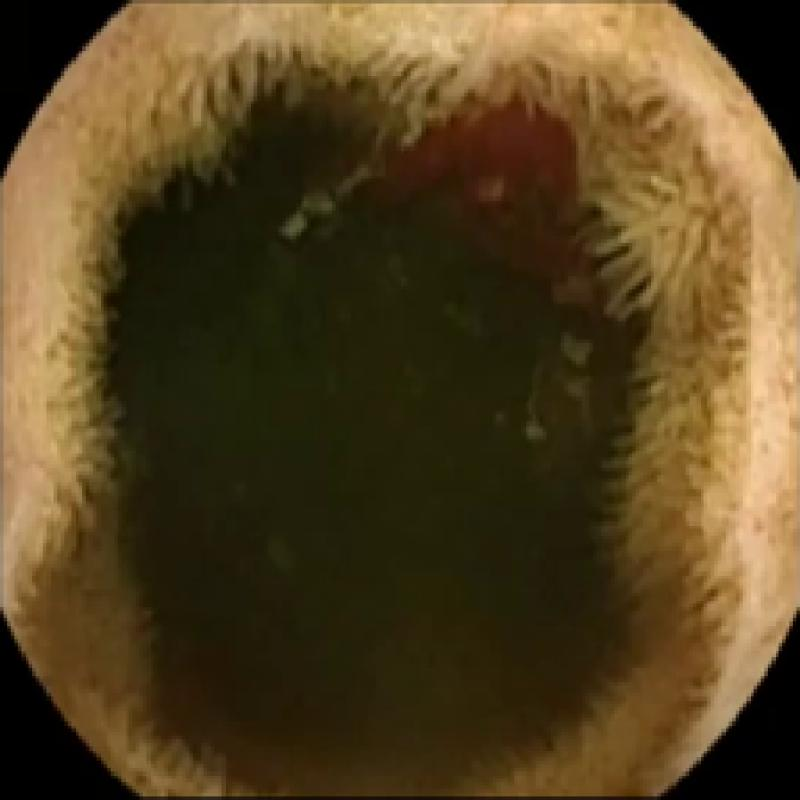bleeding: (375, 104, 582, 210)
